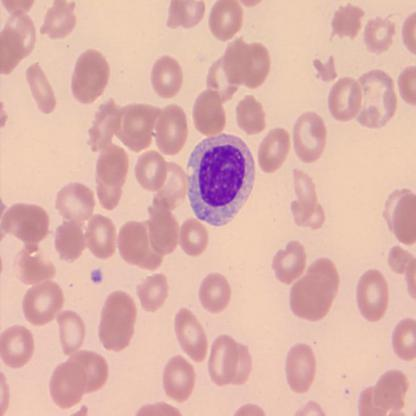Myelocyte: (188, 131, 256, 222)
